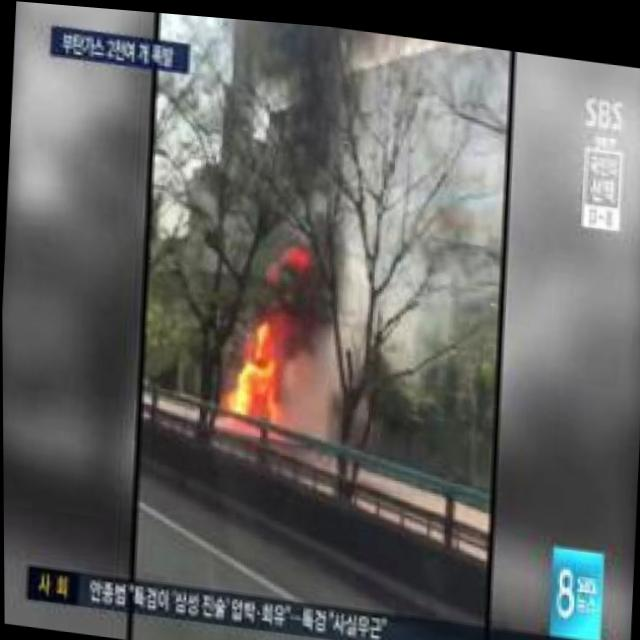Fire: (215, 299, 297, 423)
